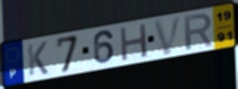6: (92, 29, 116, 67)
7: (56, 33, 80, 74)
H: (118, 22, 149, 64)
K: (26, 40, 50, 77)
R: (183, 12, 215, 52)
V: (152, 14, 185, 57)
